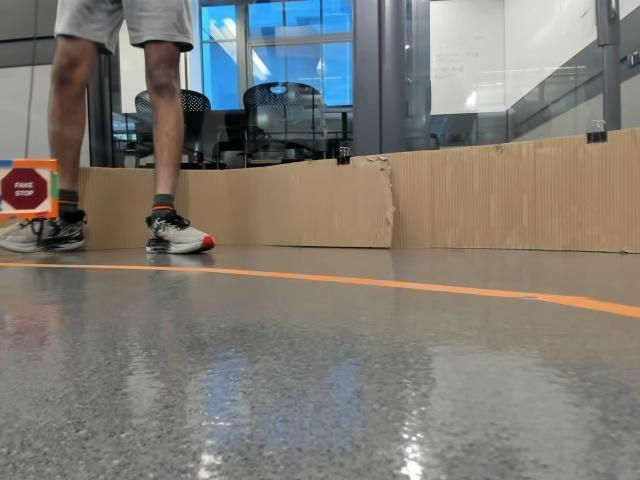Fake Stop: (0, 167, 48, 209)
